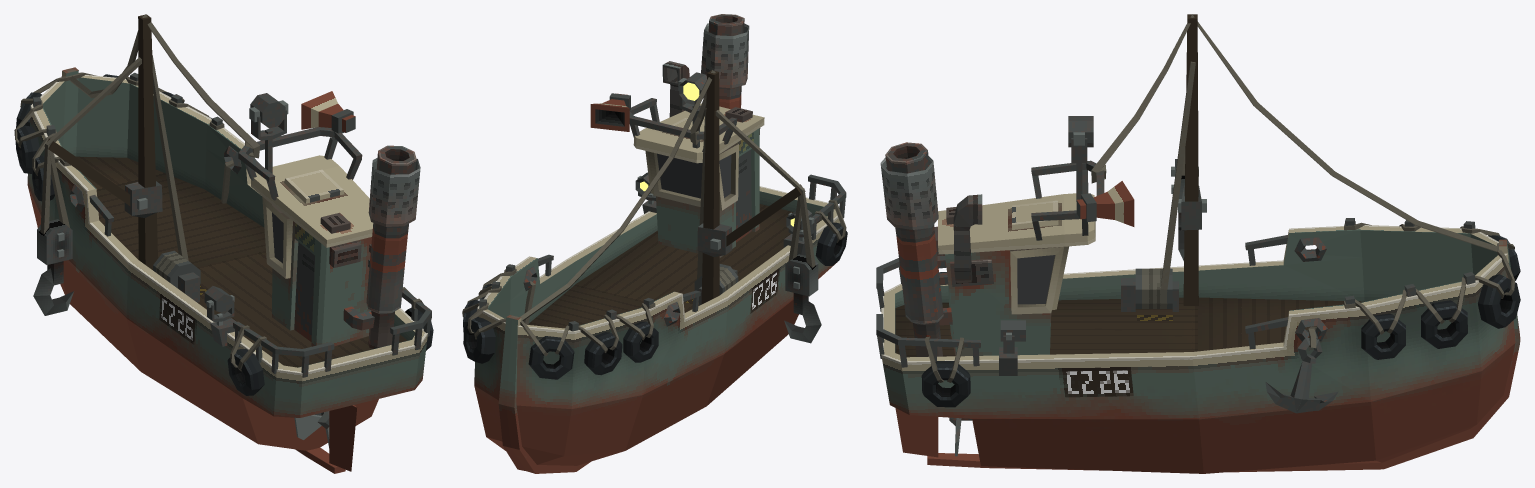
Rendered from Boat_Test.gltf.
3 renders of one model, left to right at view 1: azimuth 30°, elevation 25°; view 2: azimuth 150°, elevation 25°; view 3: azimuth 270°, elevation 25°, orthographic. The views are drawn at different scales.
Visible parts, largest first — view 1: Boat, Rudder, Top Light X, Propeller, Side Light L X, Top Light Z; view 2: Boat, Top Light X; view 3: Boat, Anchor, Rudder, Top Light X.
Part boxes in pixels (x1,y1,x2,y2): Boat: (14, 14, 433, 473); Rudder: (329, 405, 356, 471); Top Light X: (249, 93, 288, 128); Propeller: (294, 411, 329, 447); Side Light L X: (204, 286, 234, 313); Top Light Z: (251, 110, 286, 140); Boat: (462, 14, 847, 473); Top Light X: (678, 72, 706, 104); Boat: (876, 14, 1520, 473); Anchor: (1265, 337, 1338, 413); Rudder: (895, 408, 938, 457); Top Light X: (1068, 116, 1093, 147).
Size of the model in its own units: 5.16 by 6.35 by 8.92.
Materials: 1 (1 with a texture image).
